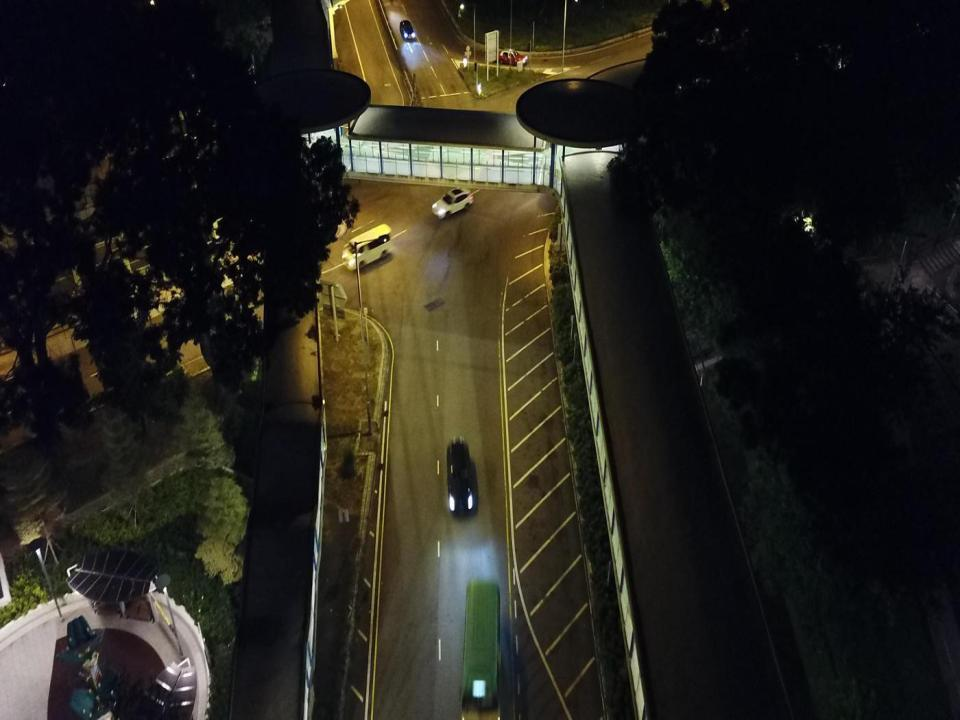bus: (460, 579, 504, 719)
car: (446, 437, 477, 518), (431, 185, 474, 219), (490, 46, 528, 66), (399, 19, 417, 41)
van: (341, 223, 392, 272)
